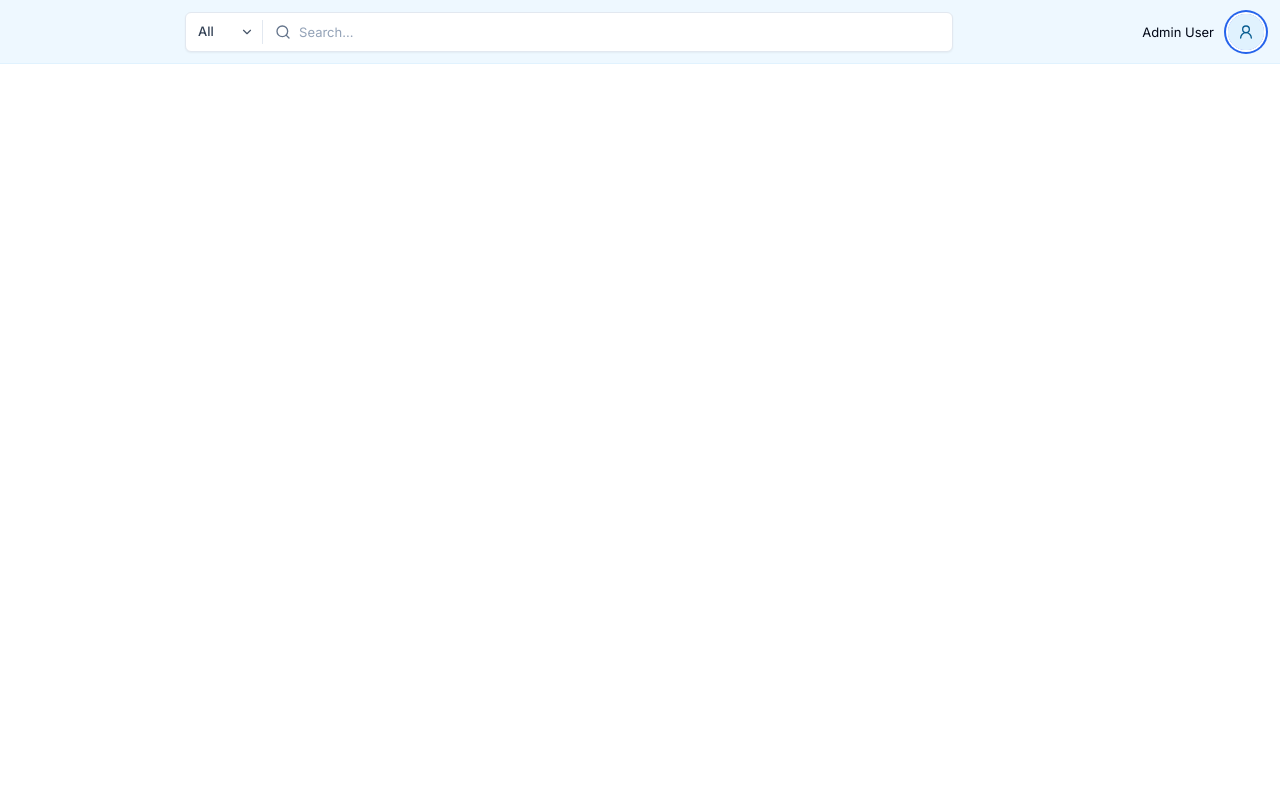
Test: Header admin home refresh › shows the user name beside the avatar and in the user menu for Superadmin
Expected: the text "Admin User" is shown, x1=1142 y1=24 x2=1214 y2=40
Press Enter in the button named "Open user menu", box x1=1228 y1=14 x2=1264 y2=50
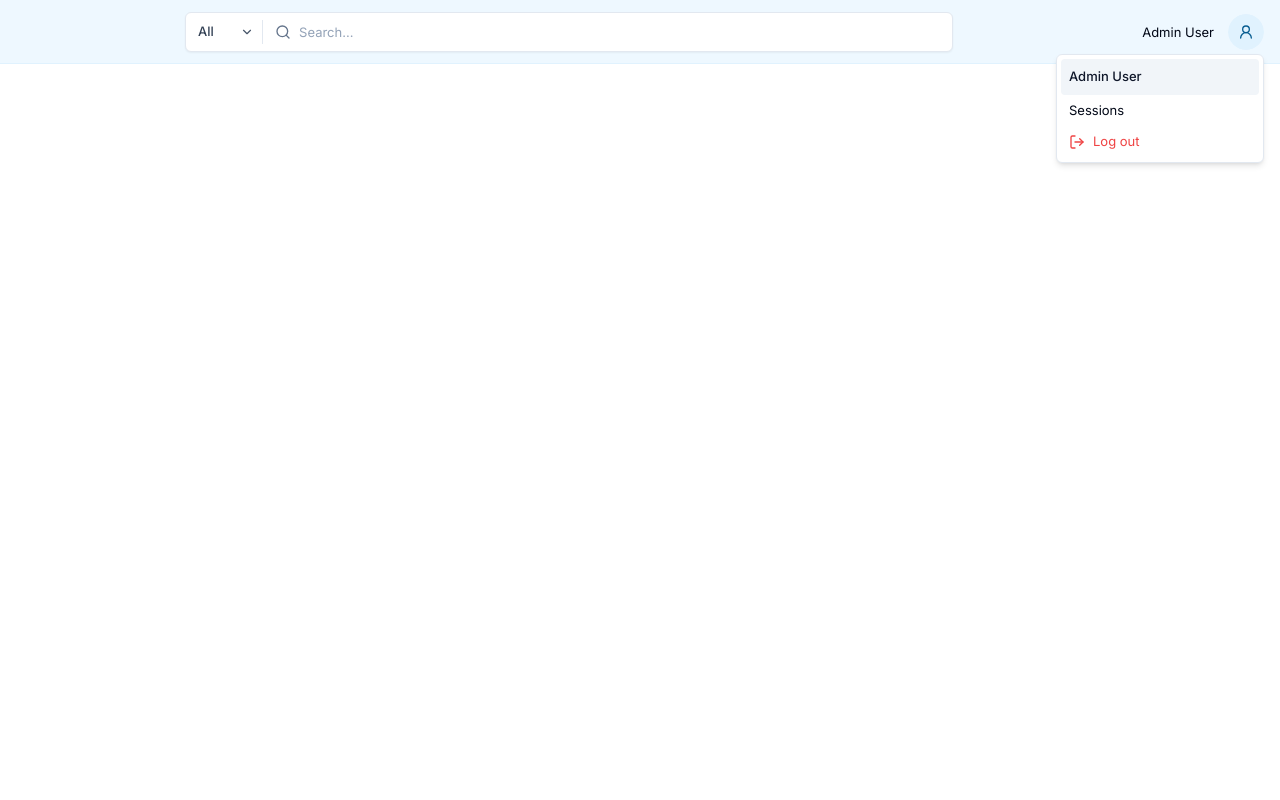
Now the number of menu items is 3
Now the menu item "Sessions" is shown, box x1=1069 y1=102 x2=1124 y2=118
Click the menu item "Admin User": (1160, 77) x1=1061 y1=59 x2=1259 y2=94
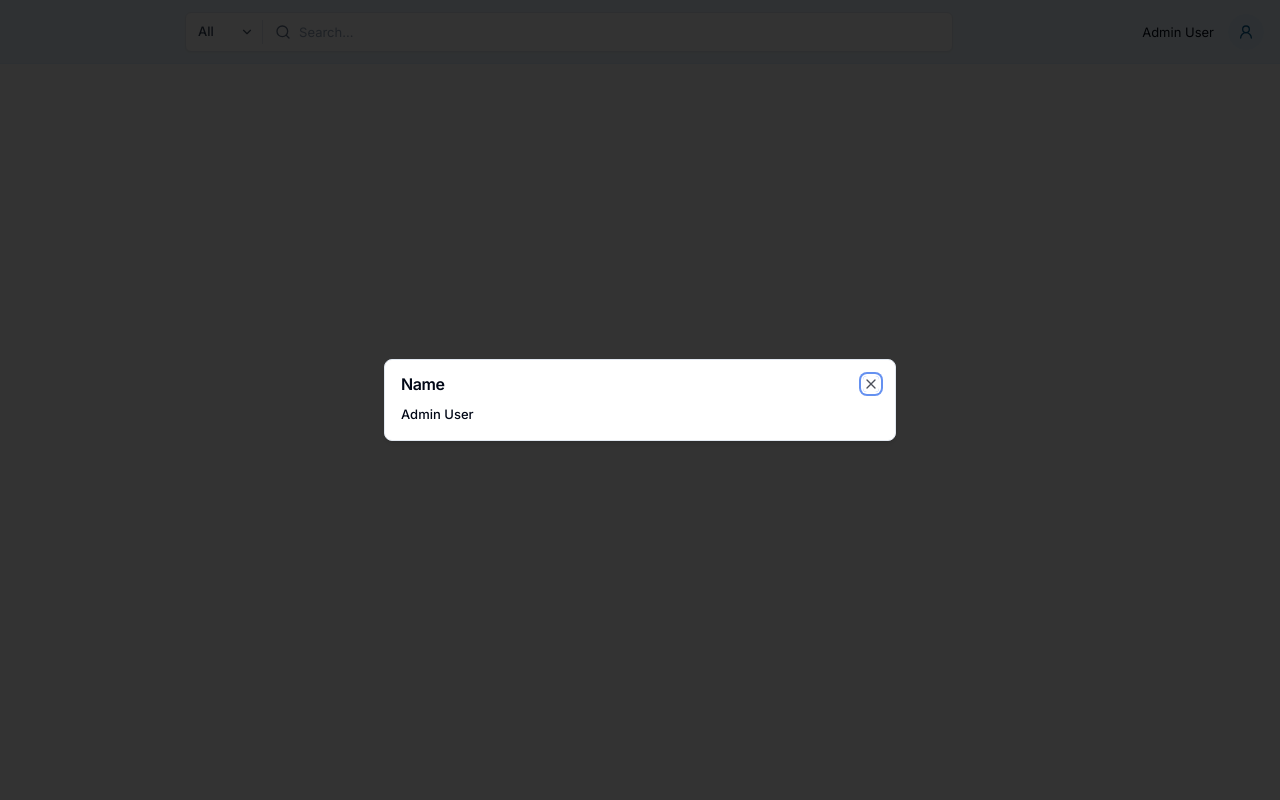
Expected: the 1st text "Admin User" is shown, x1=1142 y1=24 x2=1214 y2=40
Now the dialog is shown, box x1=384 y1=359 x2=896 y2=441
Now the heading "Name" is shown, box x1=401 y1=374 x2=445 y2=394
